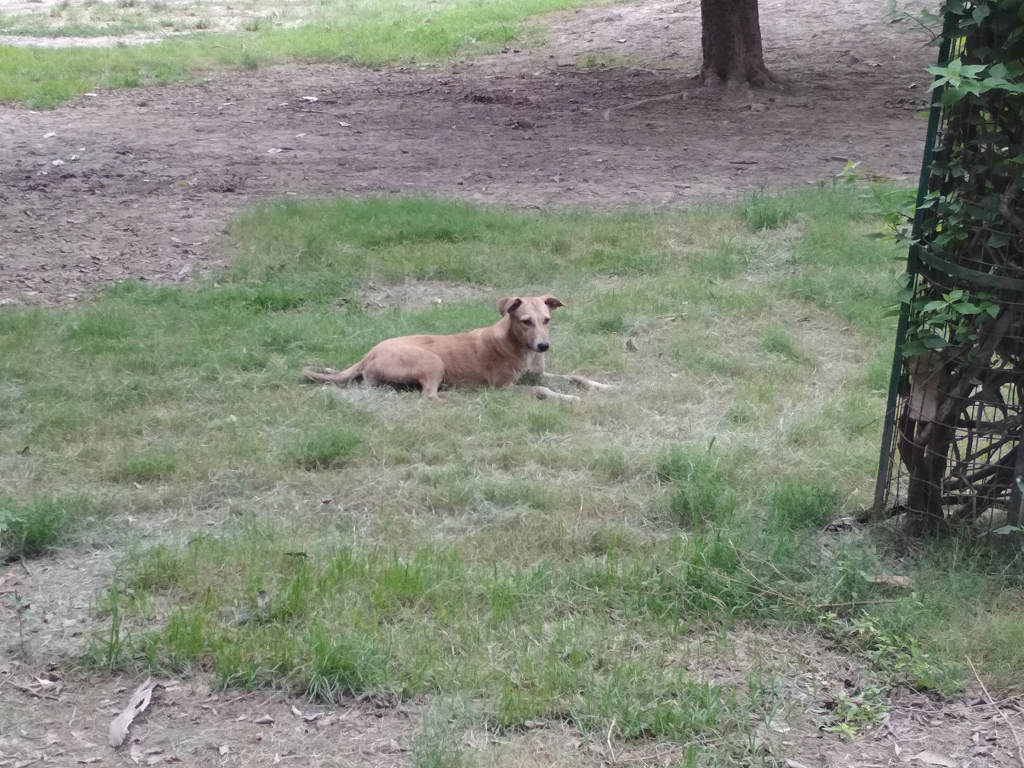dog: (303, 295, 620, 403)
